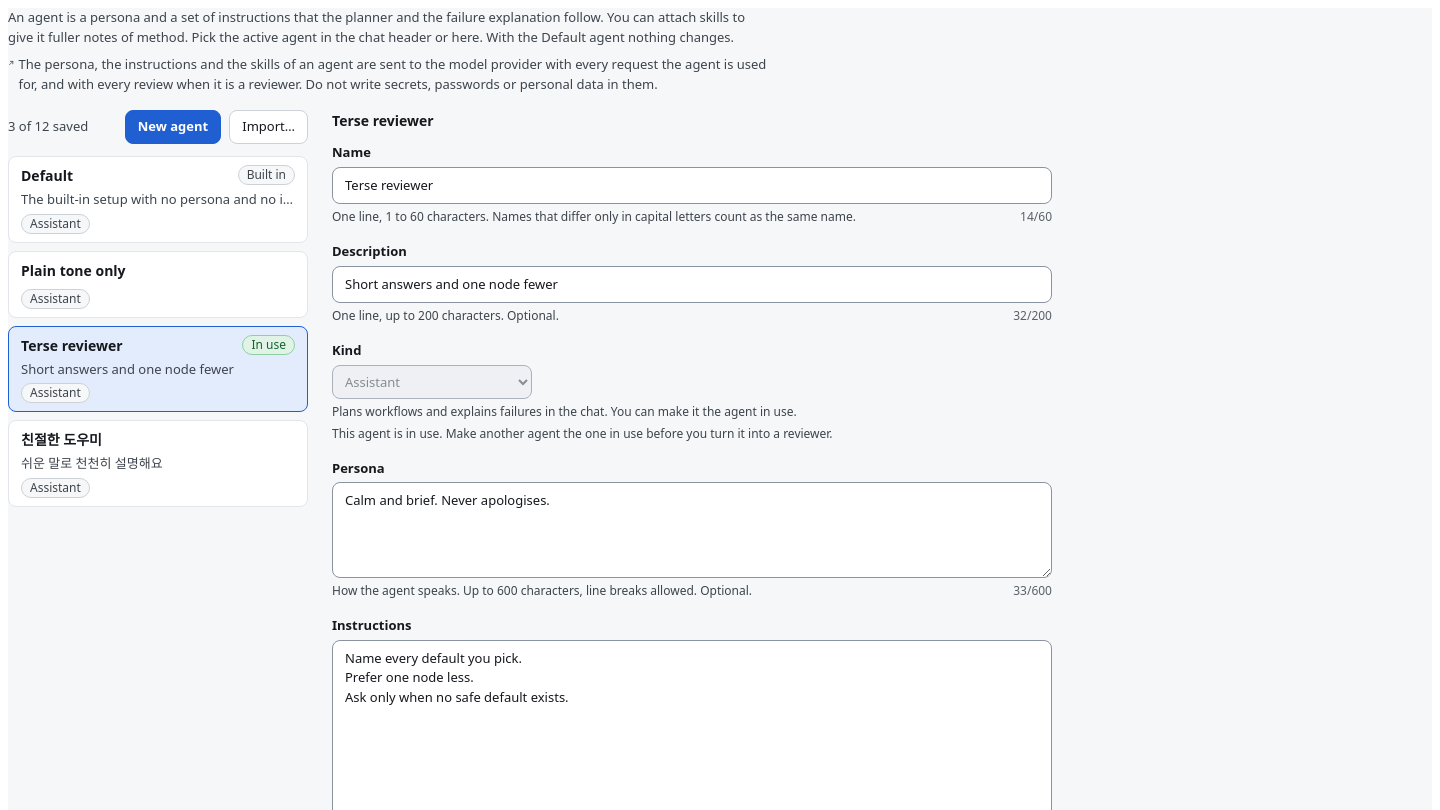
Scenario: the review of an imported file › saves nothing when the person cancels the import
Check: the list named "Agent list" is shown, box [8,156,308,506]
Click the button "Import…": click(269, 127) [229,110,308,144]
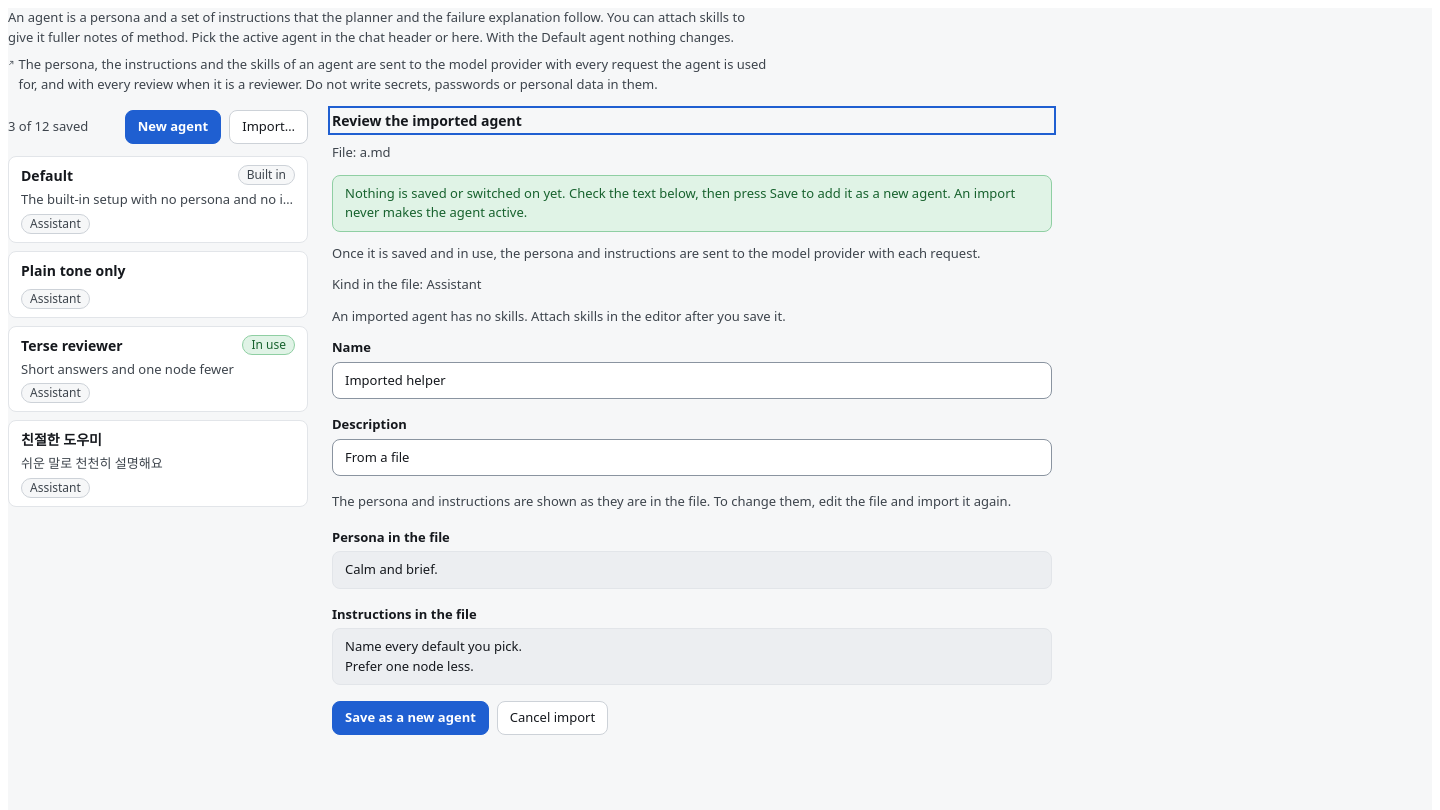
Check: the heading "Review the imported agent" is shown, box [332,111,522,130]
Click the button "Cancel import": click(552, 718) [497,701,608,735]
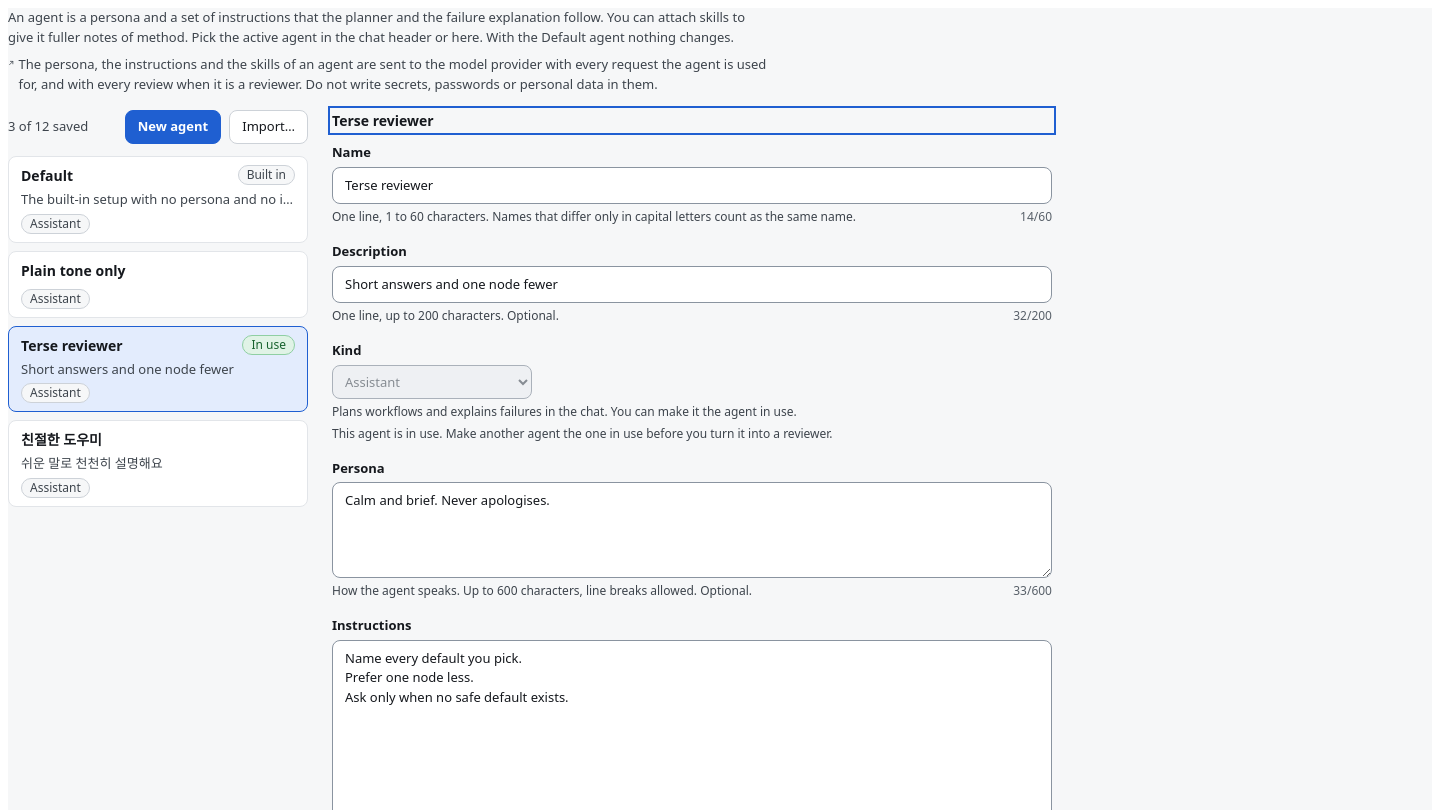
Check: the button "Imported helper" is not shown
Check: the heading "Review the imported agent" is gone
Check: the field labelled "Name" holds "Terse reviewer", box [332,166,1052,204]
